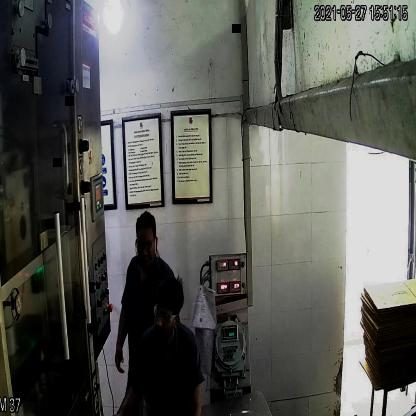goggles: (153, 303, 182, 328), (134, 235, 158, 256)
